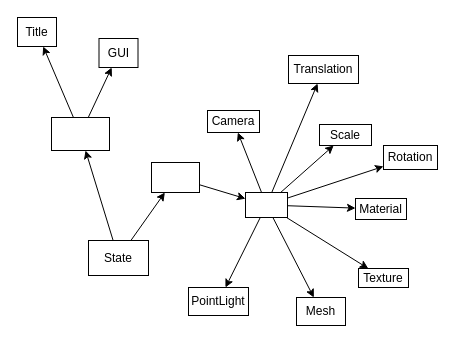
Image size: 455x343. Some labels were removed from this diagram. The box of each missing label's shape, as (x1, y1, x2, y2) in pixels:
Node: (244, 192, 288, 218)
Scene: (150, 162, 200, 192)
Window: (50, 116, 110, 150)
